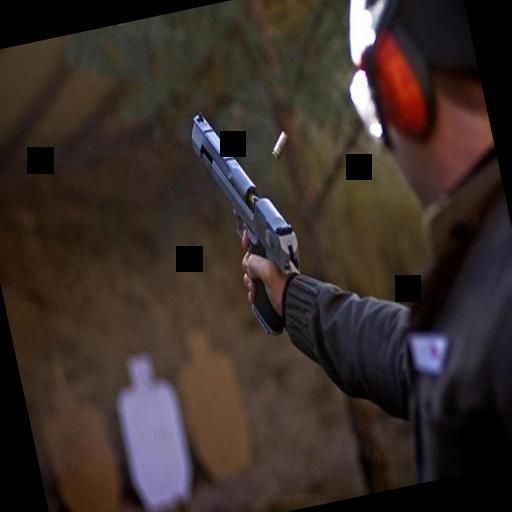Handgun: (180, 80, 312, 346)
